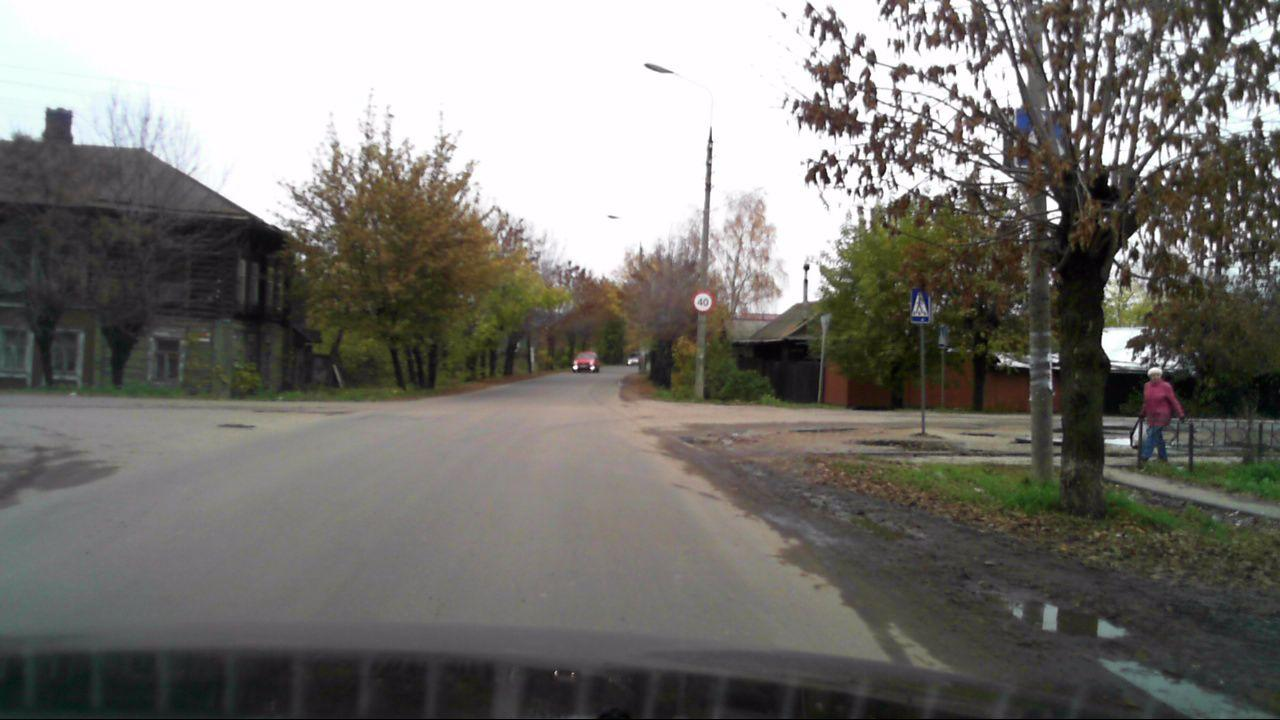obstructed_road_sign: (910, 288, 932, 324)
road_sign: (691, 288, 717, 314)
